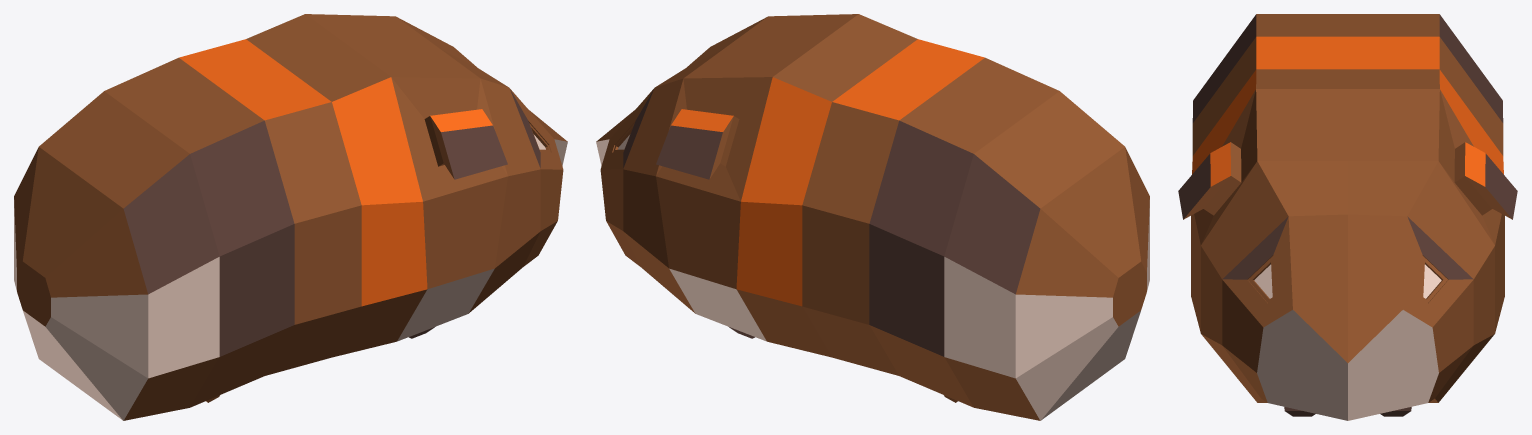
Rendered from cuyr.glb.
The picture shows the model from 3 angles, left to right: view 1: azimuth 30°, elevation 25°; view 2: azimuth 150°, elevation 25°; view 3: azimuth 270°, elevation 25°; orthographic projection. The views are drawn at different scales.
Parts seen in each view (by area): view 1: Cube_0; view 2: Cube_0; view 3: Cube_0.
Boxes of the visible parts, left/top/right/bottom form: Cube_0: left=14, top=14, right=567, bottom=420; Cube_0: left=596, top=14, right=1149, bottom=420; Cube_0: left=1178, top=14, right=1517, bottom=420.
Bounding box in the file's own units: 5.75 × 3.08 × 2.97.
Materials: 1 (1 with a texture image).
